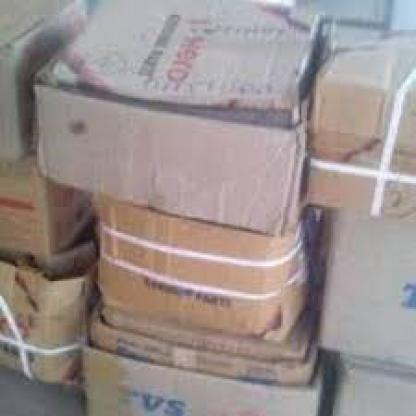paquete: (27, 80, 310, 228), (85, 188, 298, 336), (300, 32, 414, 226), (2, 252, 83, 395)
